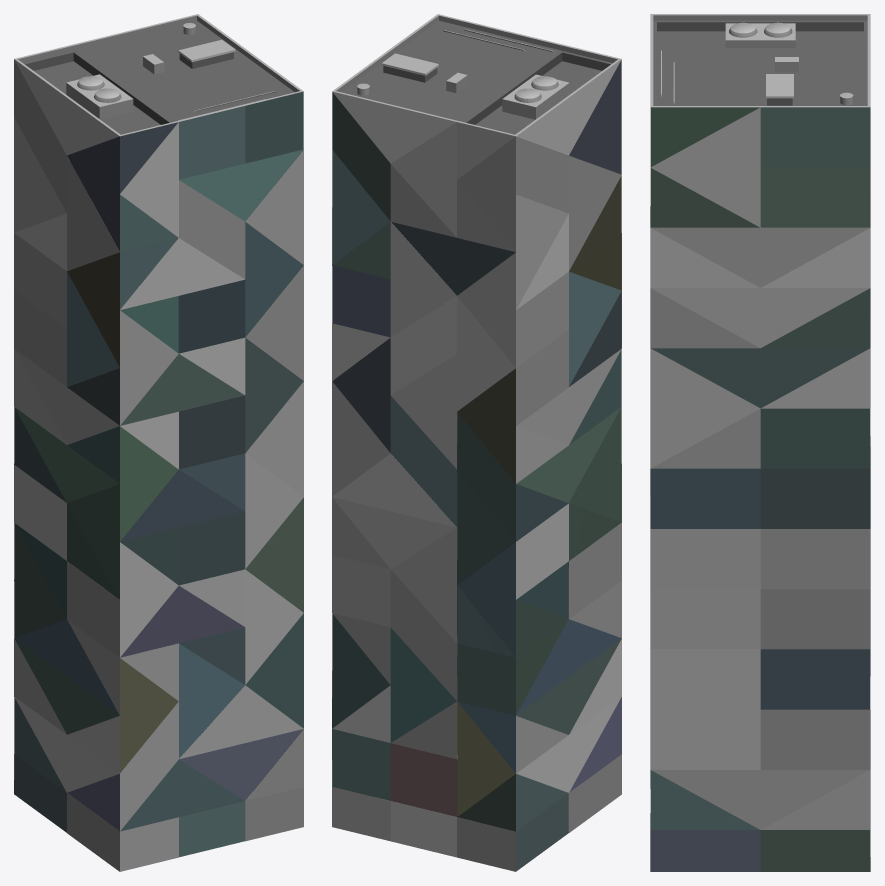
The model's file is buildings-industrial-modernskyscraper_v2.glb.
3 views of the same model, side by side, from view 1: azimuth 30°, elevation 25°; view 2: azimuth 150°, elevation 25°; view 3: azimuth 270°, elevation 25° (orthographic). The views are drawn at different scales.
Parts seen in each view (by area): view 1: ModernSkyscraper_v2_windowRefl, ModernSkyscraper_v2_base; view 2: ModernSkyscraper_v2_base, ModernSkyscraper_v2_windowRefl; view 3: ModernSkyscraper_v2_base, ModernSkyscraper_v2_windowRefl.
Part boxes in pixels (bbox=[...]): ModernSkyscraper_v2_windowRefl: bbox=[14, 91, 303, 857]; ModernSkyscraper_v2_base: bbox=[14, 14, 303, 871]; ModernSkyscraper_v2_base: bbox=[332, 14, 621, 871]; ModernSkyscraper_v2_windowRefl: bbox=[332, 60, 621, 871]; ModernSkyscraper_v2_base: bbox=[650, 14, 870, 856]; ModernSkyscraper_v2_windowRefl: bbox=[650, 107, 870, 871].
Bounding box in the file's own units: 21.04 × 80.86 × 20.96.
